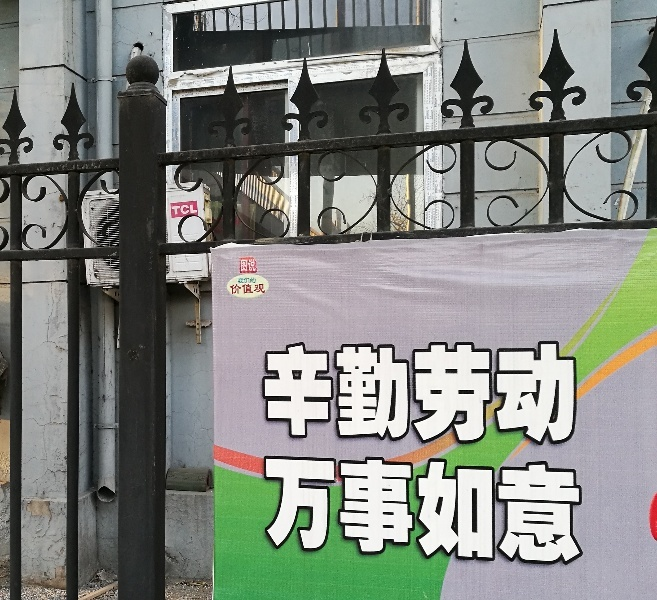text: (273, 456, 288, 566), (289, 456, 304, 566), (305, 456, 320, 566), (321, 456, 336, 566), (337, 456, 352, 566), (353, 456, 368, 566), (369, 456, 384, 566), (385, 456, 400, 566), (401, 456, 416, 566), (417, 456, 432, 566), (433, 456, 448, 566), (449, 456, 464, 566), (465, 456, 480, 566), (481, 456, 496, 566), (497, 456, 512, 566), (513, 456, 528, 566), (529, 456, 544, 566), (545, 456, 560, 566), (561, 456, 576, 566), (273, 340, 288, 445), (289, 340, 304, 445), (305, 340, 320, 445), (321, 340, 336, 445), (337, 340, 352, 445), (353, 340, 368, 445), (369, 340, 384, 445), (385, 340, 400, 445), (401, 340, 416, 445), (417, 340, 432, 445), (433, 340, 448, 445), (449, 340, 464, 445), (465, 340, 480, 445), (481, 340, 496, 445), (497, 340, 512, 445), (513, 340, 528, 445), (529, 340, 544, 445), (545, 340, 560, 445), (561, 340, 576, 445), (577, 456, 588, 566), (262, 456, 272, 566), (262, 340, 272, 445), (577, 340, 584, 445), (177, 203, 192, 217), (241, 259, 257, 272), (241, 283, 256, 295), (230, 283, 240, 295), (257, 283, 267, 295), (241, 278, 257, 284), (193, 203, 199, 217), (171, 203, 176, 217), (238, 278, 240, 284)
